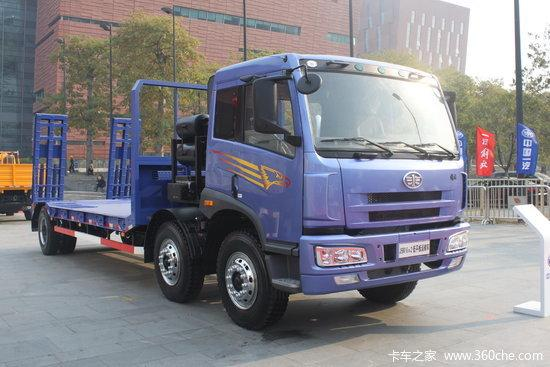truck: (26, 53, 467, 334)
